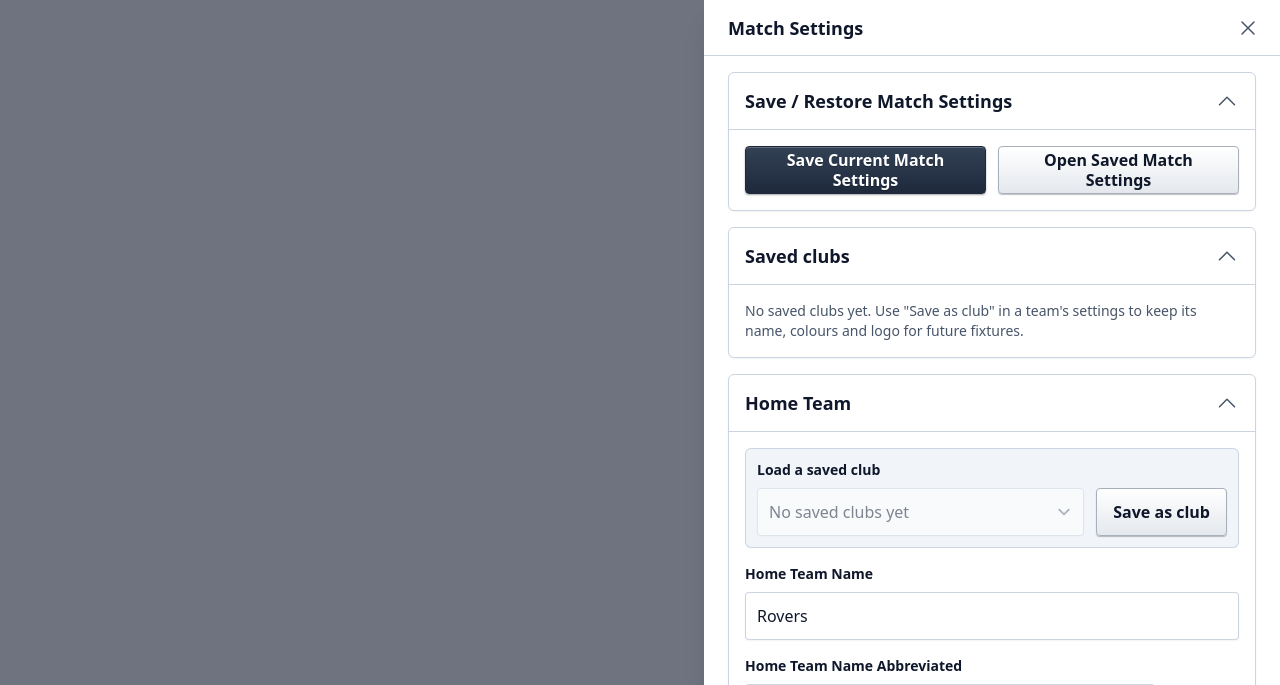
Test case: Line-up editor › saves a team's squad with its club, and lists the club's player count
Click the button "Save as club" at (1162, 512), box [1096,488,1227,536]
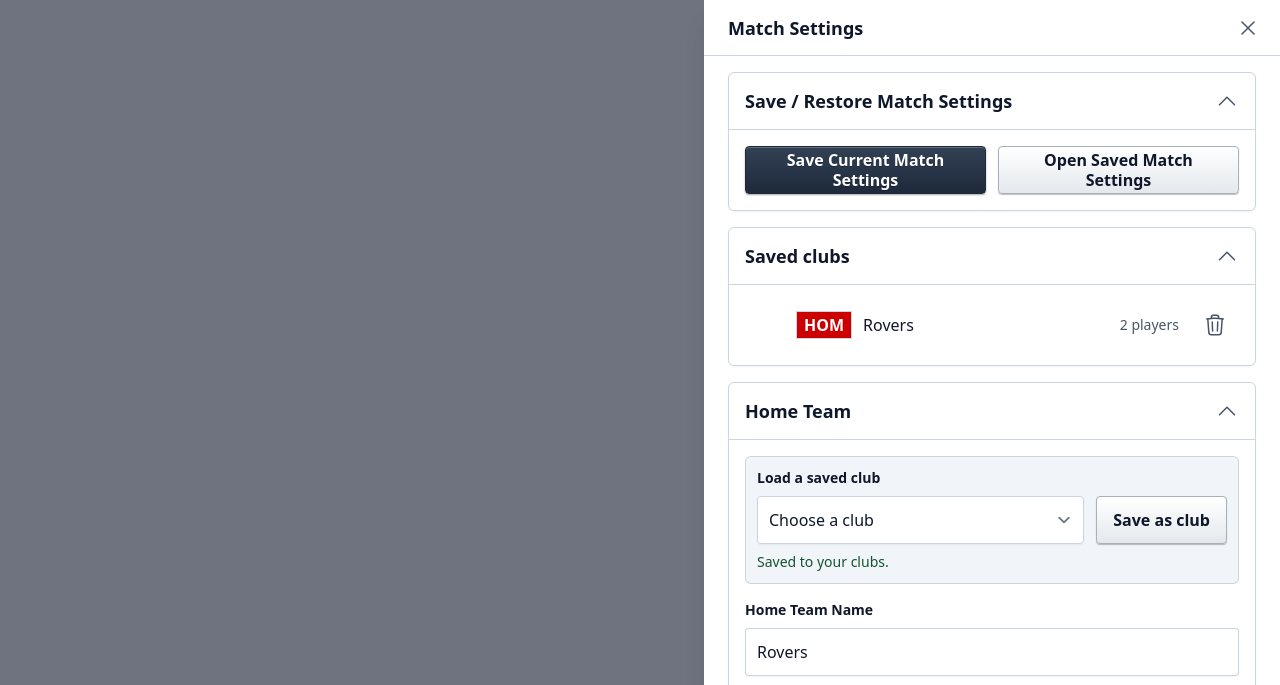
Check: the text "2 players" is shown, box [1120,315,1179,335]
